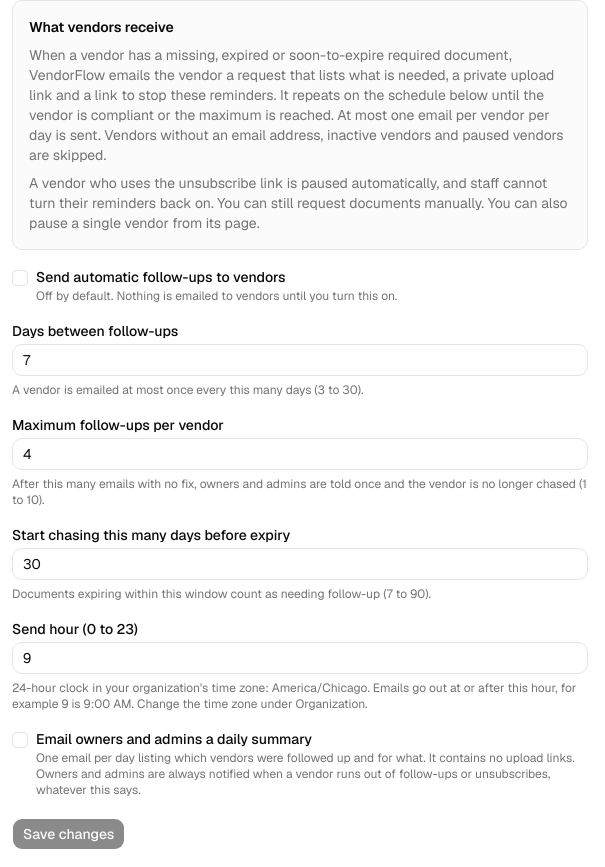
ChasingSettingsForm › disables the button while saving
Click the checkbox named "Email owners and admins a daily summary" next to "Email owners and admins a daily summary".
click(20, 740)  # box [12,732,28,748]
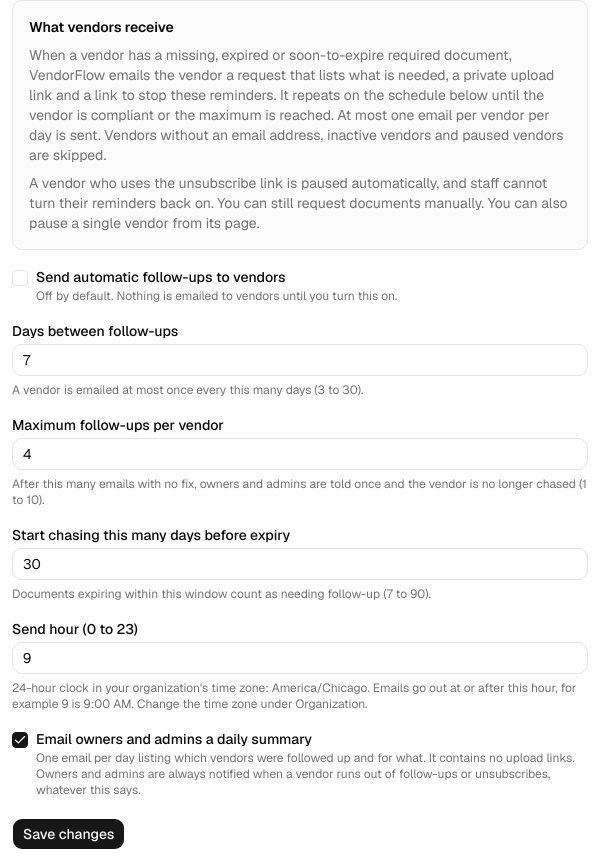
Click the button "Save changes".
click(69, 834)  # box [12,818,125,850]
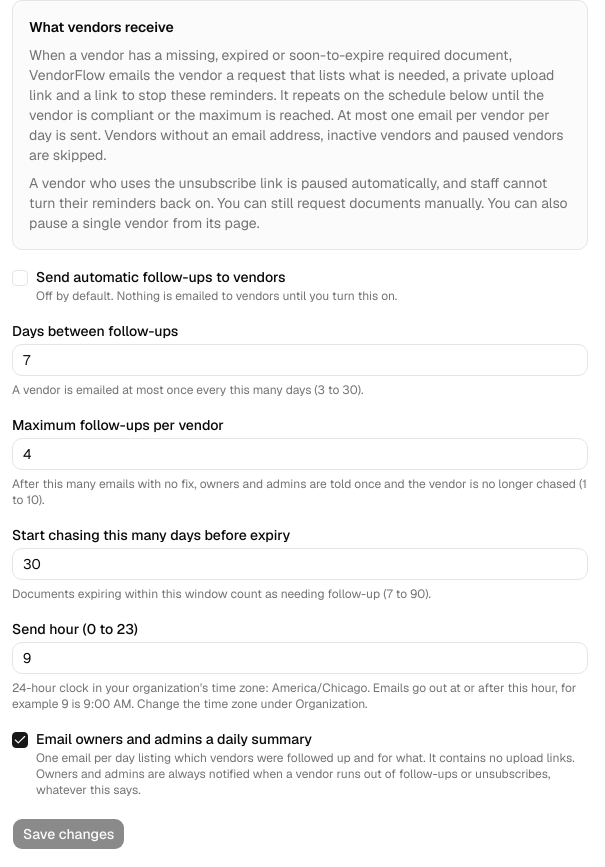
Result: the button named "Saving…" is disabled at [12,818,125,850]
